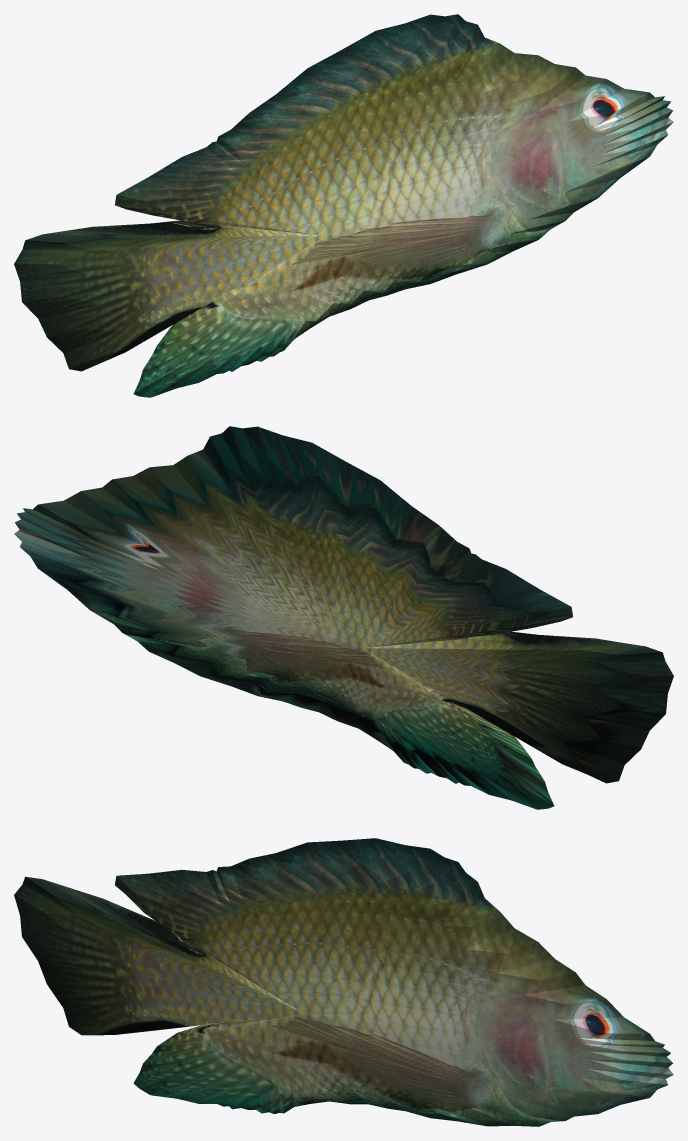
The model's file is tilapia.glb.
3 renders of one model, top to bottom at view 1: azimuth 30°, elevation 25°; view 2: azimuth 150°, elevation 25°; view 3: azimuth 330°, elevation 25°, orthographic.
Visible parts, largest first — view 1: Cube; view 2: Cube; view 3: Cube.
Part boxes in pixels (bbox=[...]): Cube: bbox=[14, 14, 673, 397]; Cube: bbox=[14, 426, 673, 809]; Cube: bbox=[14, 838, 673, 1126].
Size of the model in its own units: 4.78 by 2.18 by 0.2669.
1 material, 1 textured.
